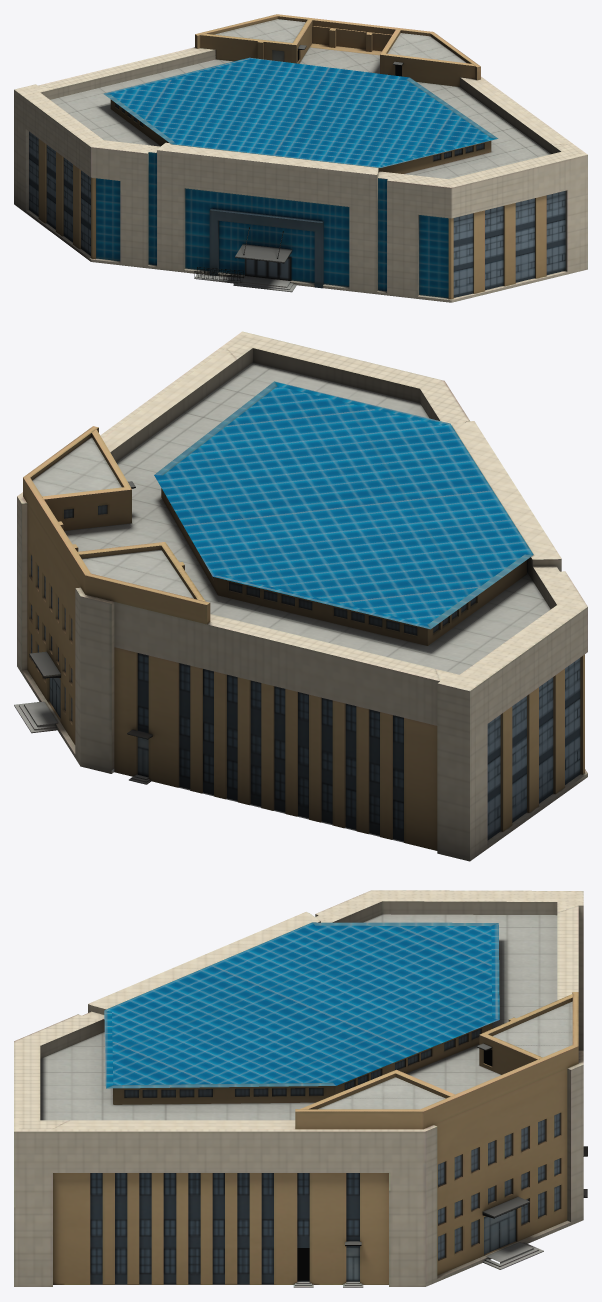
3 views of the same model, one above another, from view 1: azimuth 30°, elevation 25°; view 2: azimuth 150°, elevation 25°; view 3: azimuth 270°, elevation 25° (orthographic). The views are drawn at different scales.
Visible parts, largest first — view 1: MERGE_外墙; view 2: MERGE_外墙; view 3: MERGE_外墙.
Part boxes in pixels (x1=…): MERGE_外墙: x1=14, y1=14, x2=587, y2=302; MERGE_外墙: x1=14, y1=331, x2=587, y2=861; MERGE_外墙: x1=14, y1=890, x2=587, y2=1287.
Size of what is drawn, in the model's own units: 67.71 by 22.59 by 67.82.
Materials: 1 (1 with a texture image).
